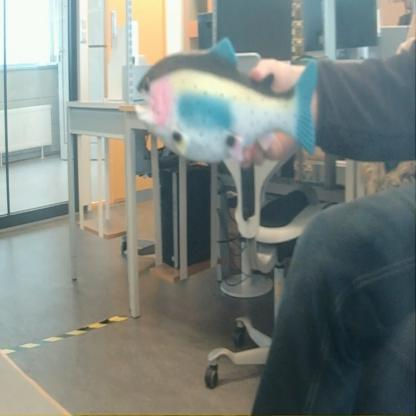rubberfish: (128, 32, 323, 160)
